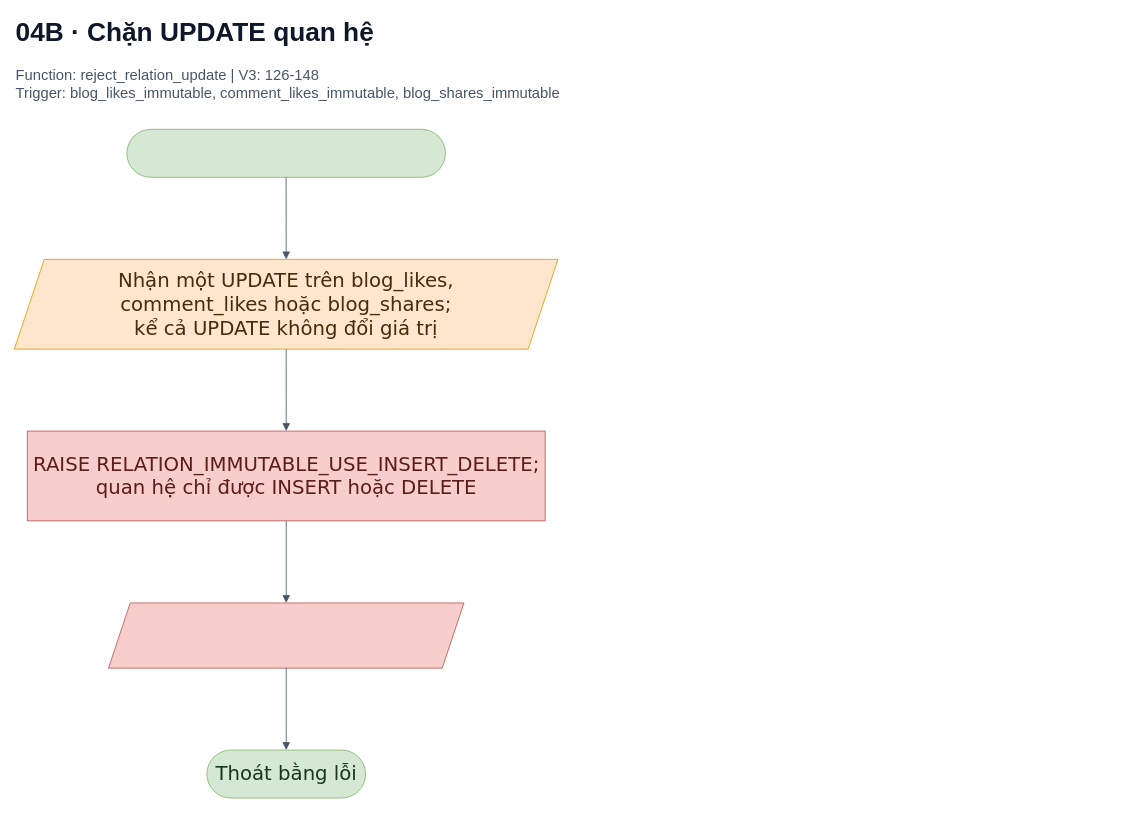
This 1136x813 diagram has some shape labels left out. The centre of each missing label's shape, as x and y in pixels:
"Bắt đầu: reject_relation_update" belongs at [285,152].
"Trả lỗi SQLSTATE 23514; không cho phép UPDATE quan hệ" belongs at [286,635].
